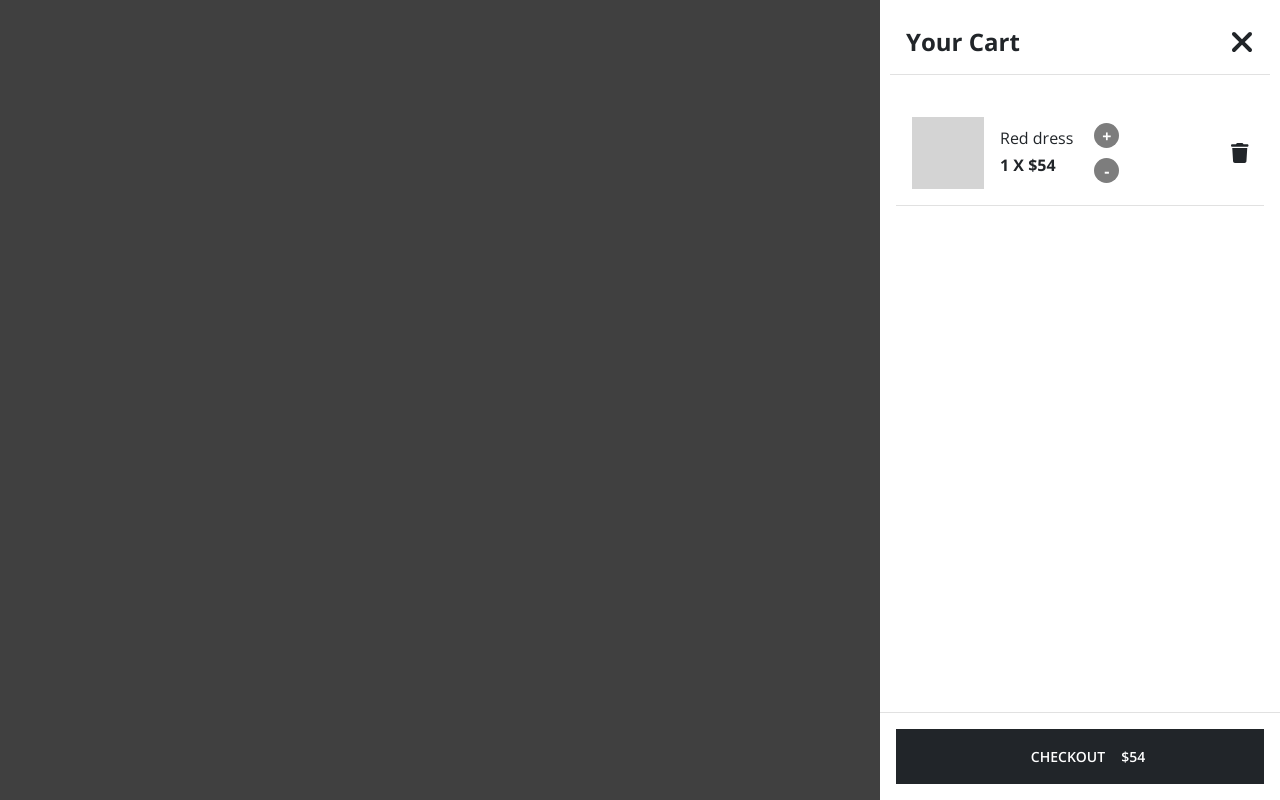
Test: Test Cart › Test Cart functionality › can add product quantity
Click the button "+": (1107, 136) [1094, 123, 1119, 148]
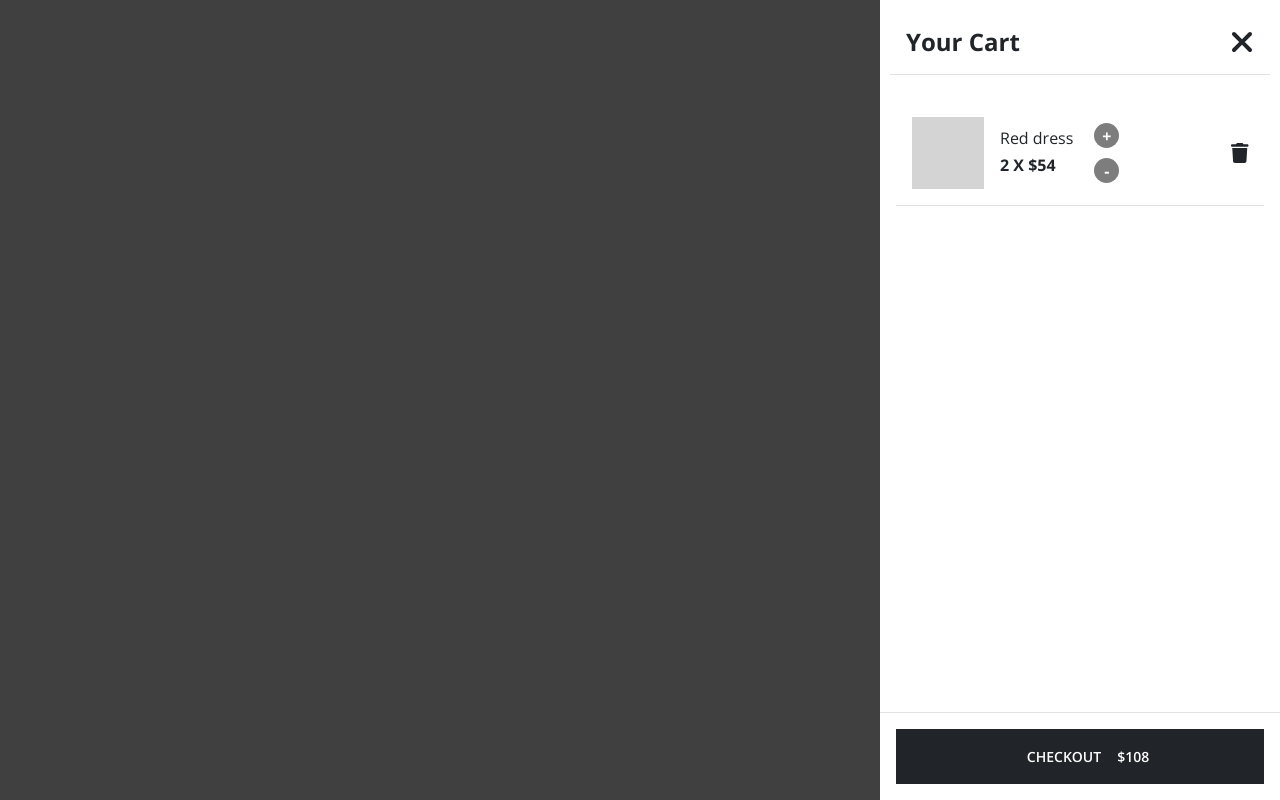
Expected: the text "2 X $54" is shown, [1000, 154, 1056, 176]
